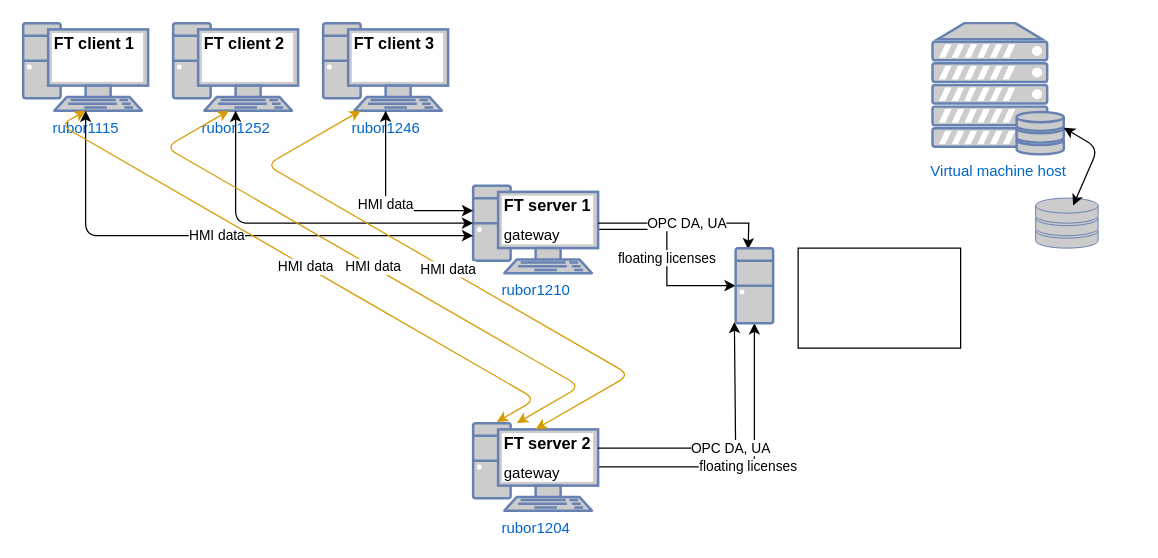
Some shapes in this 1158 by 558 pixel diagram are drawn without their labels. Each missing label, with the centre of its shape:
Backup of rubor0007 with licenses: (x=1066, y=222)
FT Server license 250D FT Gateway license concurrent: (x=879, y=297)
rubor0007 virtual: (x=754, y=285)
